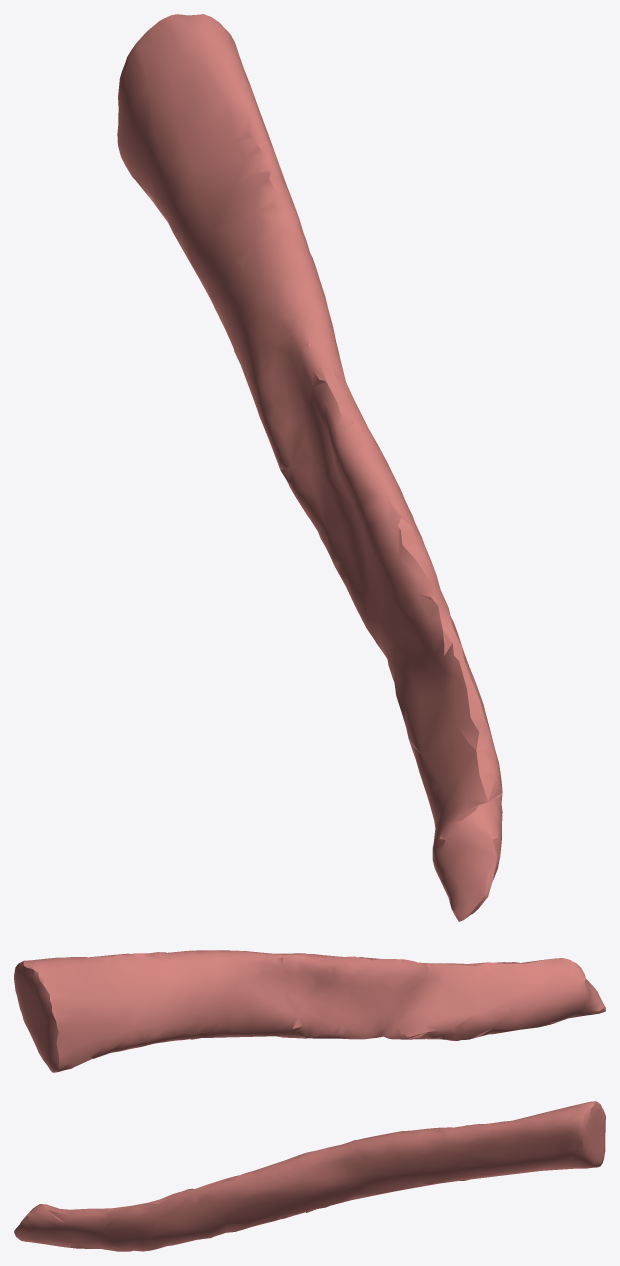
The model's file is fma47216_mm1727m.glb.
3 views of the same model, one above another, from view 1: azimuth 30°, elevation 25°; view 2: azimuth 150°, elevation 25°; view 3: azimuth 270°, elevation 25° (orthographic). The views are drawn at different scales.
Parts seen in each view (by area): view 1: FMA47216_MM1727M; view 2: FMA47216_MM1727M; view 3: FMA47216_MM1727M.
Boxes of the visible parts, x1,y1,x2,y2 form: FMA47216_MM1727M: (117,14,502,921); FMA47216_MM1727M: (14,950,605,1072); FMA47216_MM1727M: (14,1101,605,1251).
Size of the model in its own units: 0.0185 by 0.022 by 0.0566.
